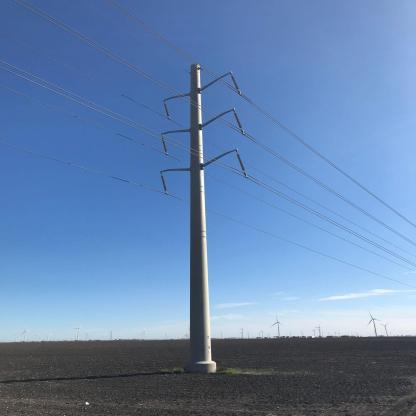Electrical Pole: (162, 54, 246, 377)
